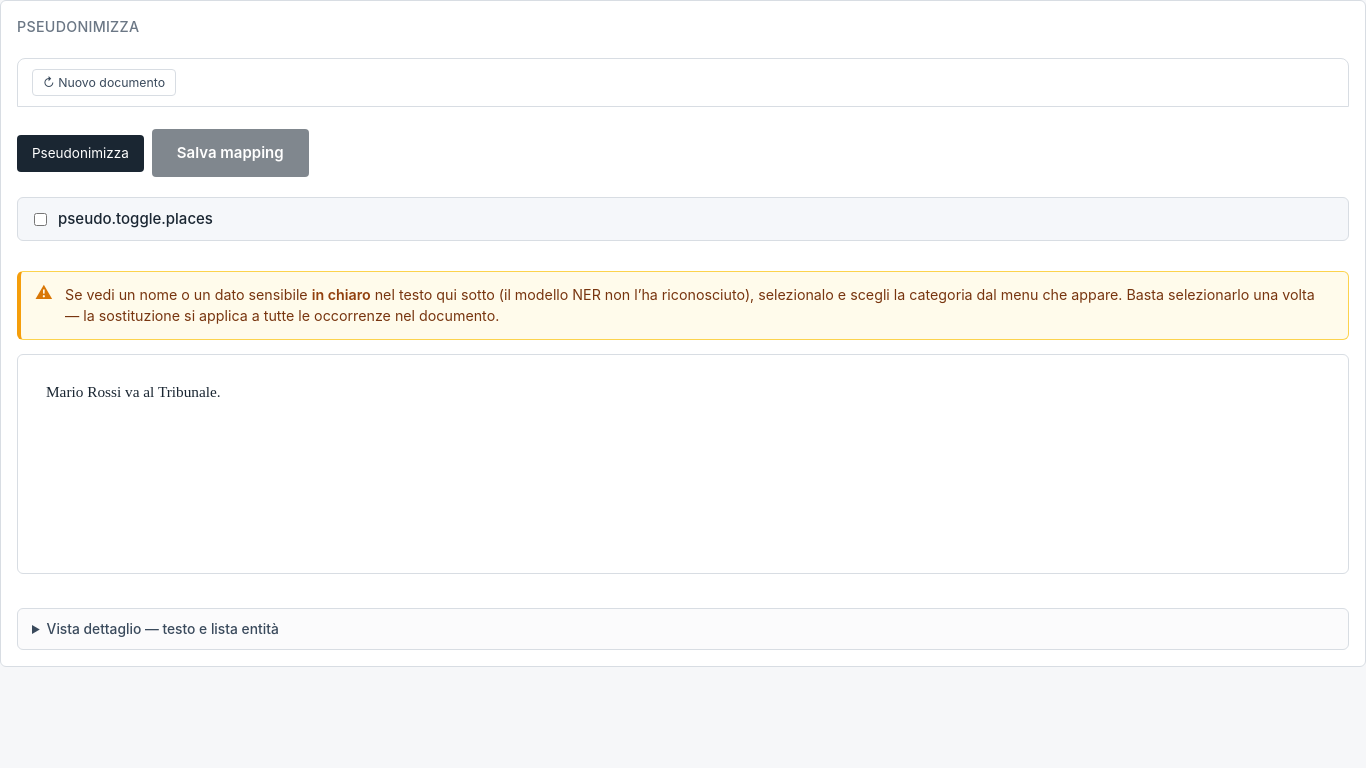
PseudonymizePanel — partial-NER reset (regression 20260518) › re-enables the Pseudonimizza button + shows banner when predict returns partial:true
The width and height of the screenshot is (1366, 768).
Click Pseudonimizza.
Click the button with test id "pseudonymize-btn".
click(80, 153)  # box 17,135 -> 144,172
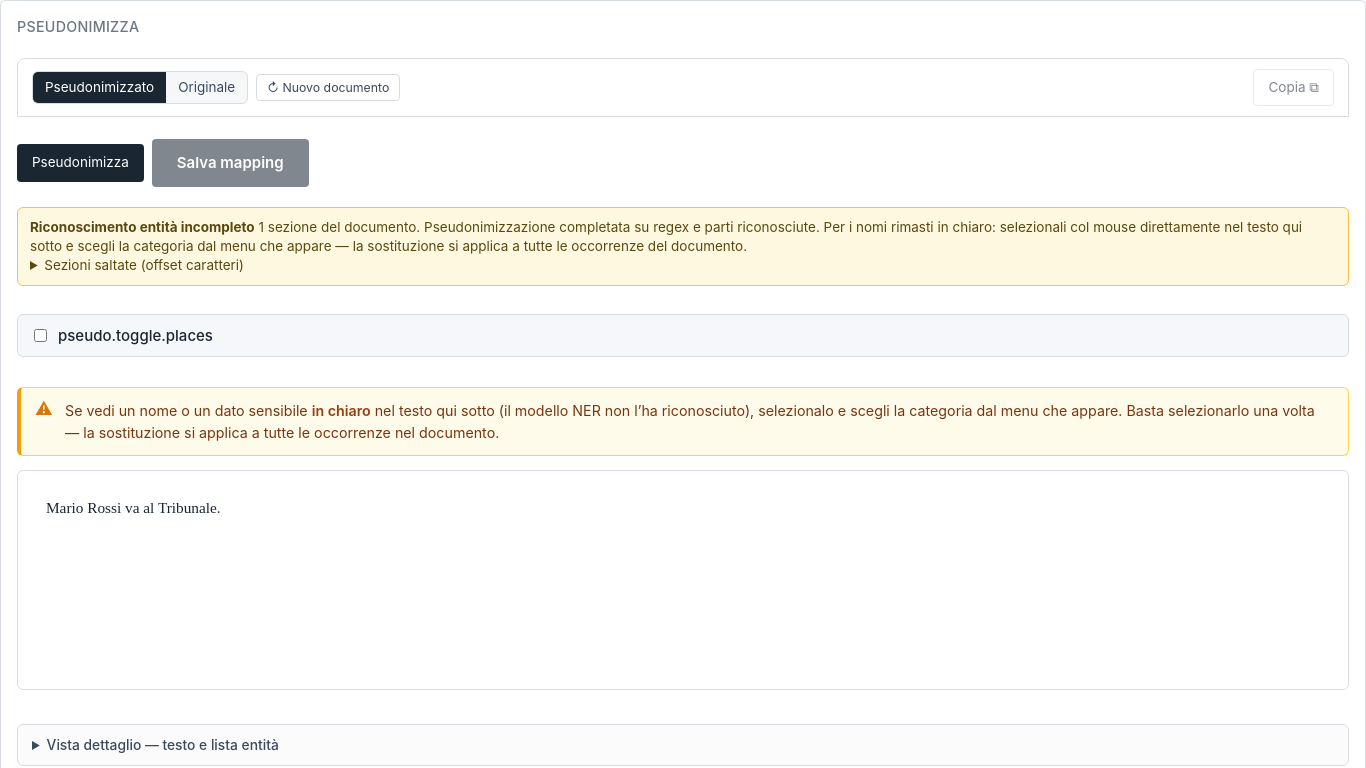
Check: the button with test id "pseudonymize-btn" is enabled, box 17,144 -> 144,182
Check: the message with test id "partial-ner-banner" is shown, box 17,207 -> 1349,286
Check: the message with test id "partial-ner-banner" shows "incompleto", box 30,219 -> 255,235
